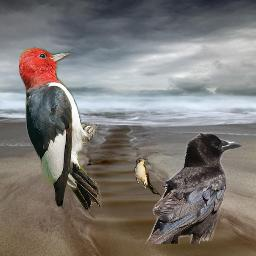Crow: (145, 132, 243, 244)
Cuckoo: (134, 158, 161, 198)
Woodpecker: (19, 46, 103, 212)
